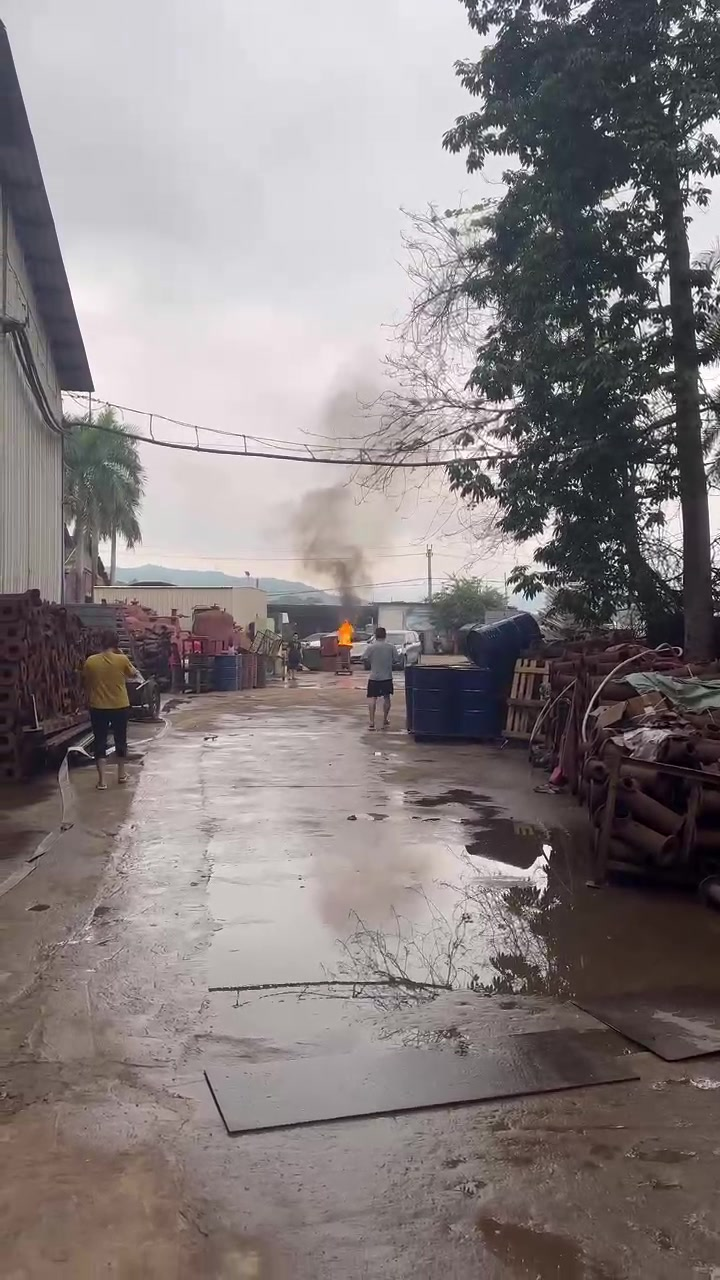fire: (338, 620, 353, 644)
